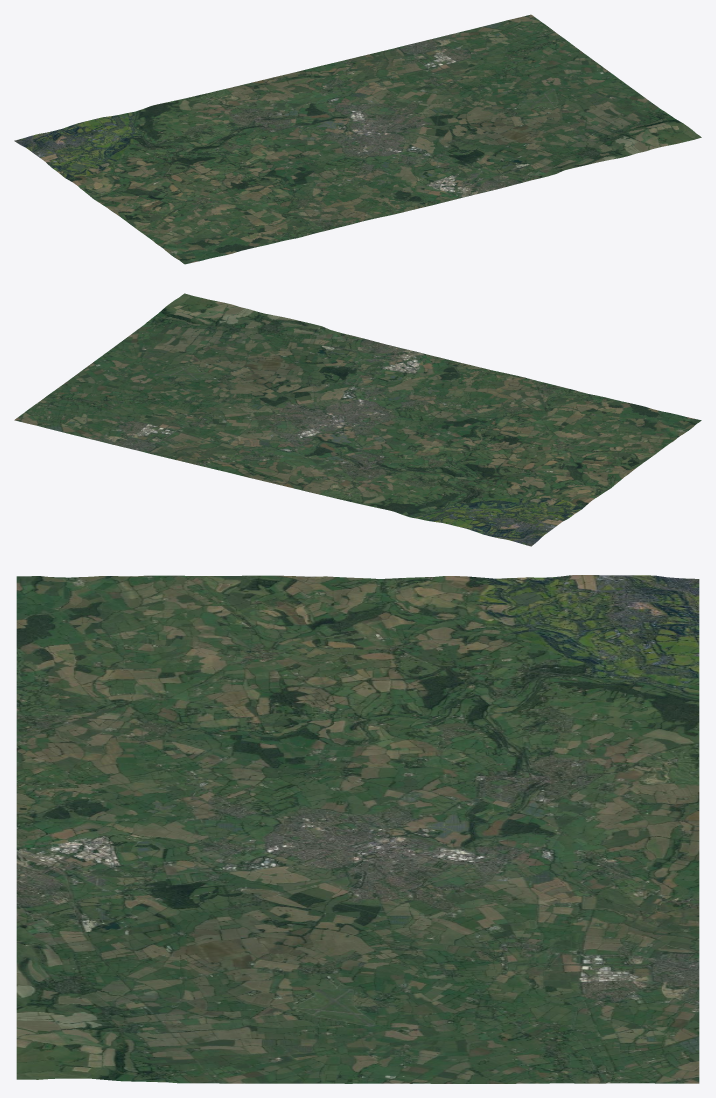
File: Trowbridge.glb
3 views of the same model, one above another, from view 1: azimuth 30°, elevation 25°; view 2: azimuth 150°, elevation 25°; view 3: azimuth 270°, elevation 25° (orthographic). The views are drawn at different scales.
Visible parts, largest first — view 1: EXPORT_GOOGLE_SAT_WM; view 2: EXPORT_GOOGLE_SAT_WM; view 3: EXPORT_GOOGLE_SAT_WM.
Boxes of the visible parts, x1,y1,x2,y2 form: EXPORT_GOOGLE_SAT_WM: (14, 14, 701, 264); EXPORT_GOOGLE_SAT_WM: (14, 293, 701, 546); EXPORT_GOOGLE_SAT_WM: (16, 575, 699, 1083).
Size of the model in its own units: 34244 by 209 by 19568.
1 material, 1 textured.
